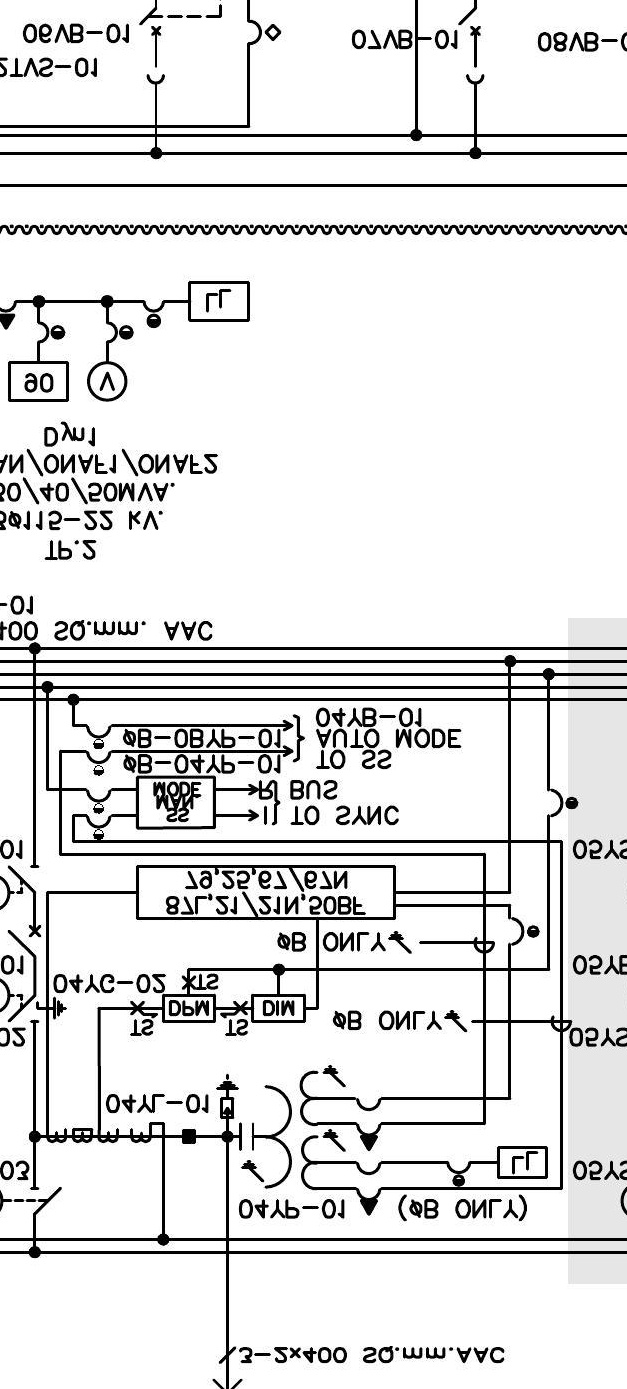115_breaker: (7, 925, 42, 958)
115_cvt_1p: (238, 1064, 384, 1216)
115_la: (215, 1073, 240, 1119)
DIM: (251, 993, 306, 1023)
DPM: (162, 994, 216, 1023)
LL: (188, 280, 250, 322), (497, 1145, 548, 1179)
ss_man_mode: (136, 775, 216, 830)
v_m: (86, 360, 128, 402)
